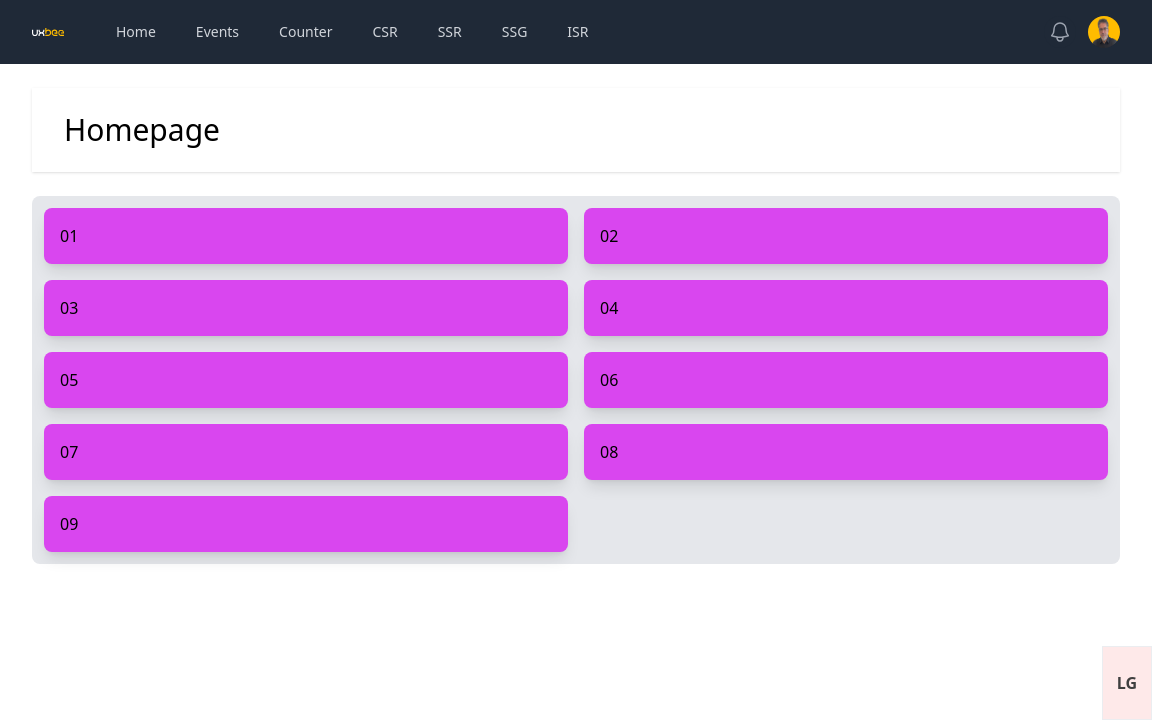
Scenario: Navigation › should navigate to the couter page
This screenshot has width=1152, height=720.
# Find a link with an href attribute containing "counter" and click it
Click the link "Counter" at (306, 32), box [279, 22, 332, 41]
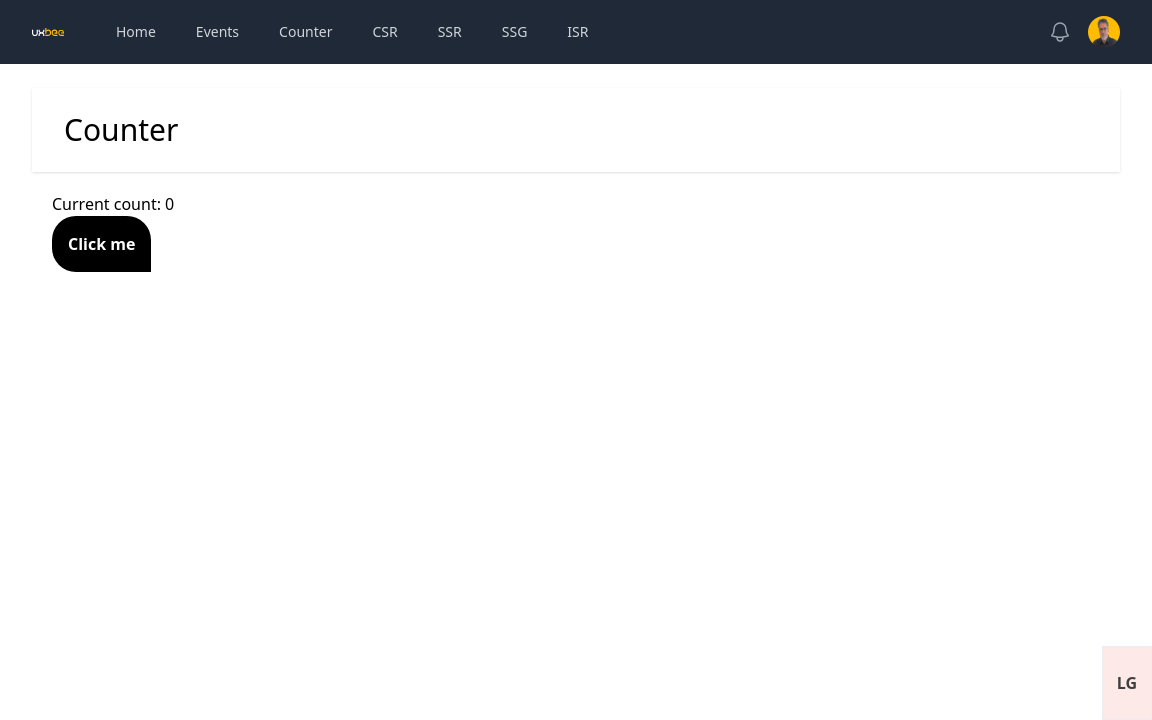
Expected: the heading "Counter" is shown, [64, 109, 178, 150]
